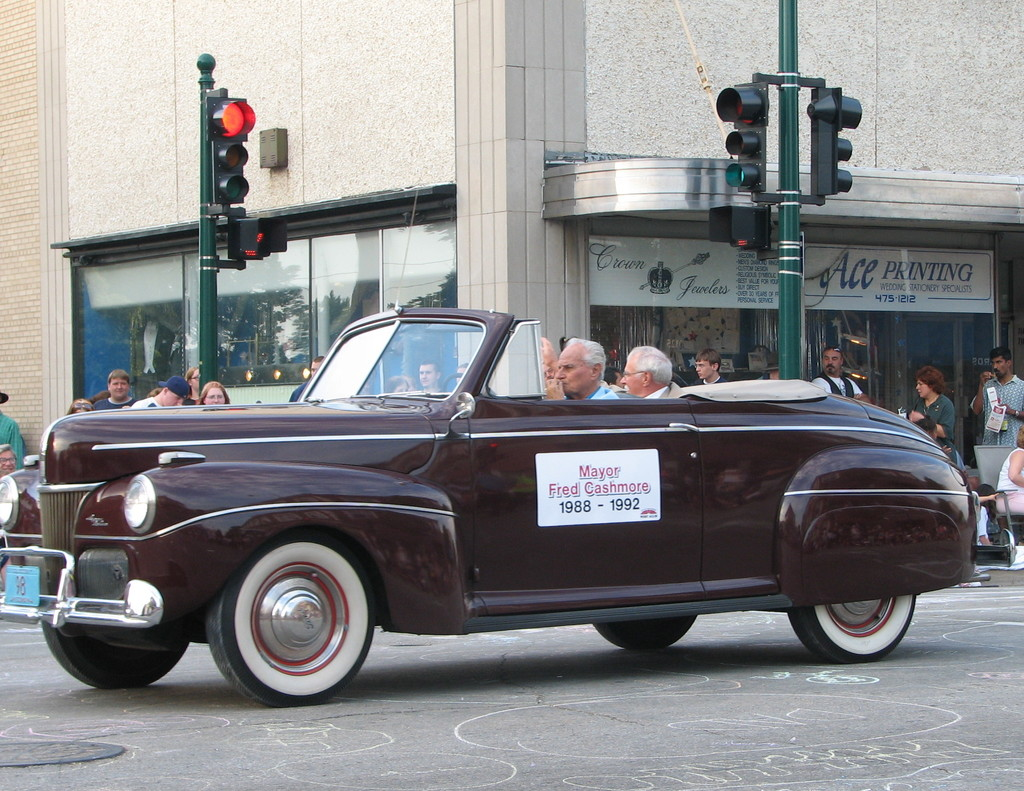mobil: (19, 295, 993, 695)
